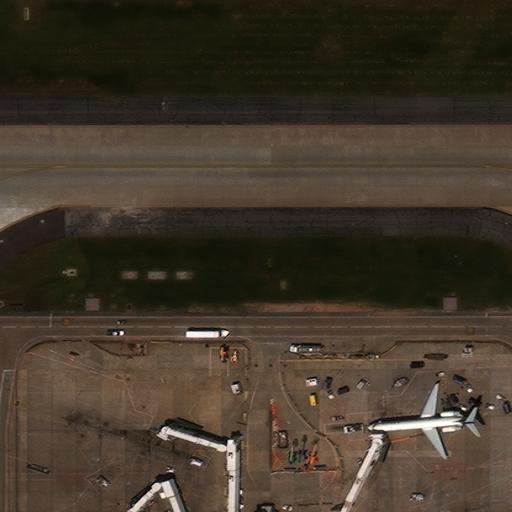Medium Civil Transport: (366, 382, 477, 460)
